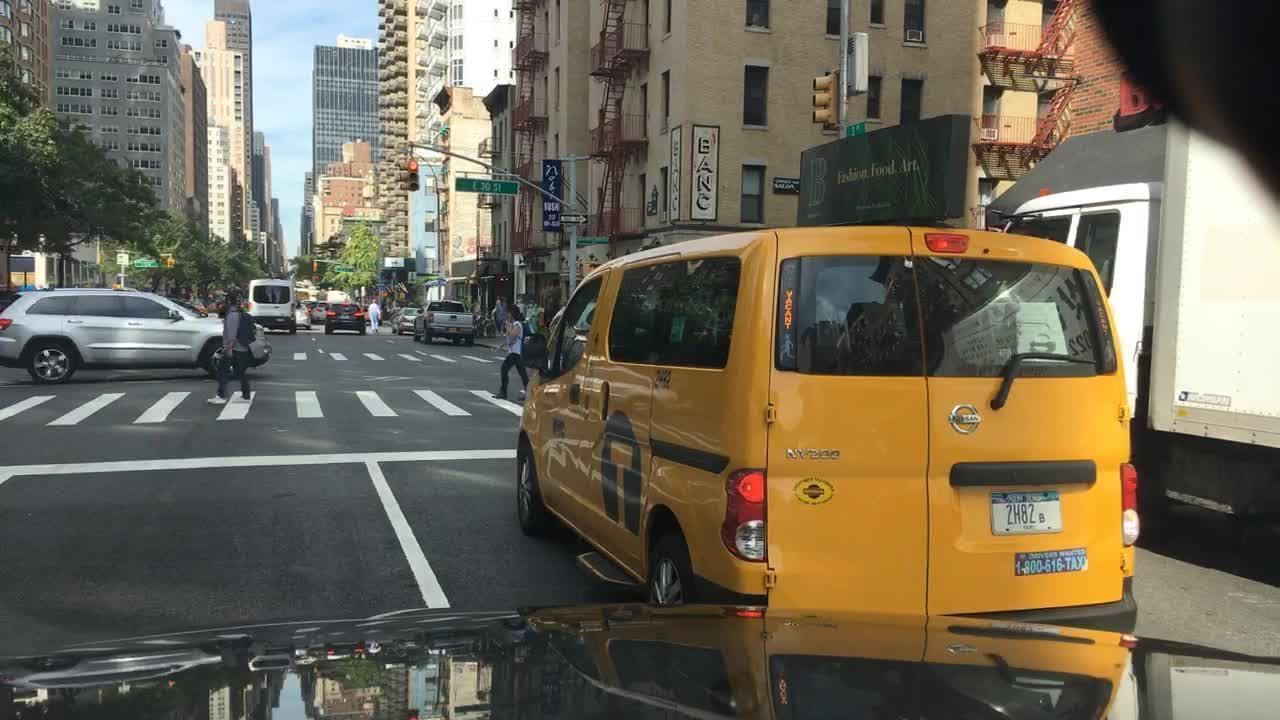Nissan: (940, 399, 1000, 451)
